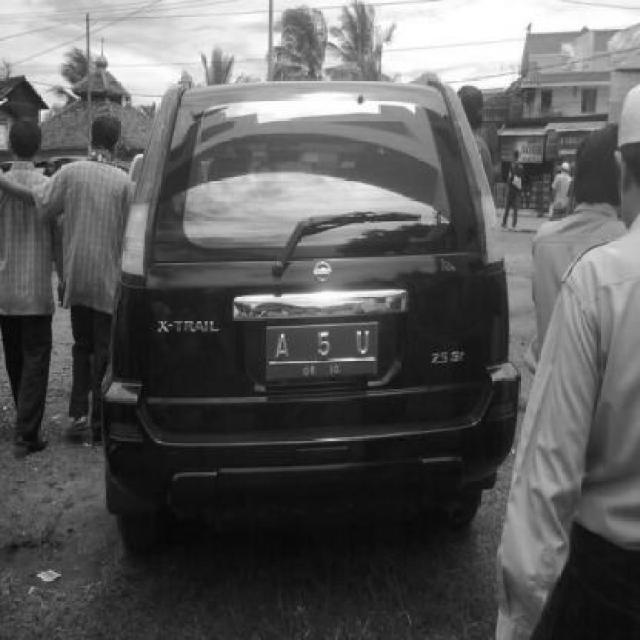5: (313, 332, 337, 359)
A: (266, 332, 298, 361)
U: (352, 324, 376, 360)
